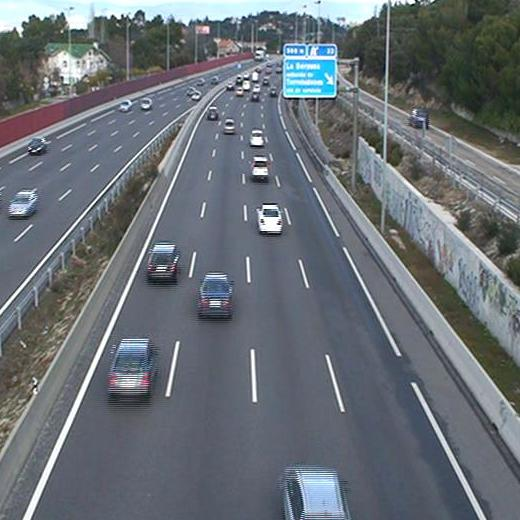car: (105, 339, 158, 396), (199, 273, 234, 313), (145, 242, 180, 279), (255, 203, 285, 234), (248, 155, 271, 178), (249, 129, 265, 145), (224, 118, 237, 134), (207, 104, 219, 119)
